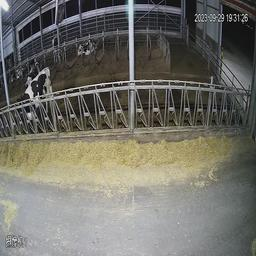cow: (19, 62, 54, 142), (75, 29, 95, 59), (50, 30, 65, 65)
